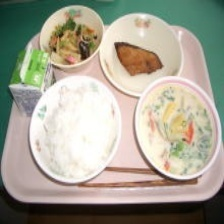rice: (39, 85, 114, 179)
